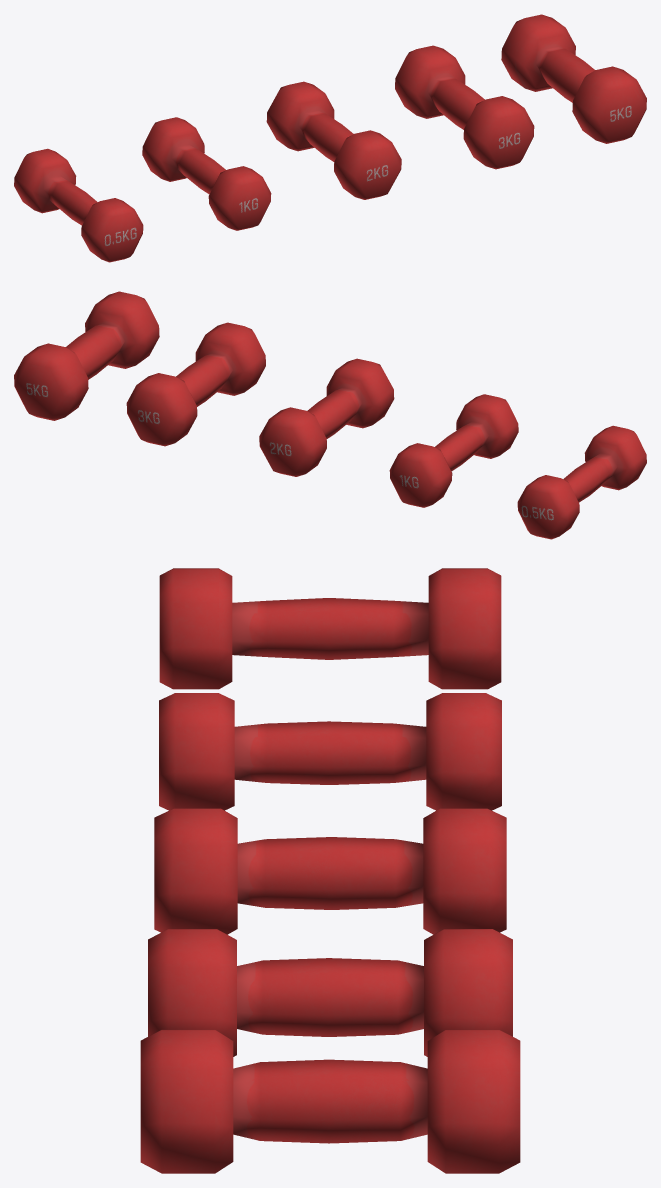
File: Light_Weight_Mini_Dumbbell_Pack_Low_Poly.glb
3 renders of one model, top to bottom at view 1: azimuth 30°, elevation 25°; view 2: azimuth 150°, elevation 25°; view 3: azimuth 270°, elevation 25°, orthographic. The views are drawn at different scales.
Parts seen in each view (by area): view 1: Mini Dumbbell_5_mini_dumbell 5_0, Mini Dumbbell_3_mini_dumbell 3_0, Mini Dumbbell_2_mini_dumbell 2_0, Mini Dumbbell_1_mini_dumbell 1_0, Mini Dumbbell_0.5_mini_dumbell .5_0; view 2: Mini Dumbbell_5_mini_dumbell 5_0, Mini Dumbbell_3_mini_dumbell 3_0, Mini Dumbbell_2_mini_dumbell 2_0, Mini Dumbbell_1_mini_dumbell 1_0, Mini Dumbbell_0.5_mini_dumbell .5_0; view 3: Mini Dumbbell_5_mini_dumbell 5_0, Mini Dumbbell_2_mini_dumbell 2_0, Mini Dumbbell_3_mini_dumbell 3_0, Mini Dumbbell_1_mini_dumbell 1_0, Mini Dumbbell_0.5_mini_dumbell .5_0.
Boxes of the visible parts, x1,y1,x2,y2 form: Mini Dumbbell_5_mini_dumbell 5_0: (501,14,646,143); Mini Dumbbell_3_mini_dumbell 3_0: (395,45,534,169); Mini Dumbbell_2_mini_dumbell 2_0: (266,81,401,199); Mini Dumbbell_1_mini_dumbell 1_0: (142,117,271,230); Mini Dumbbell_0.5_mini_dumbell .5_0: (14,148,143,262); Mini Dumbbell_5_mini_dumbell 5_0: (14,291,159,420); Mini Dumbbell_3_mini_dumbell 3_0: (126,322,265,446); Mini Dumbbell_2_mini_dumbell 2_0: (259,358,394,476); Mini Dumbbell_1_mini_dumbell 1_0: (389,394,518,507); Mini Dumbbell_0.5_mini_dumbell .5_0: (517,425,646,539); Mini Dumbbell_5_mini_dumbell 5_0: (140,1029,520,1173); Mini Dumbbell_2_mini_dumbell 2_0: (154,808,506,934); Mini Dumbbell_3_mini_dumbell 3_0: (148,929,512,1056); Mini Dumbbell_1_mini_dumbell 1_0: (159,693,501,810); Mini Dumbbell_0.5_mini_dumbell .5_0: (159,568,501,689).
Size of the model in its own units: 0.7755 by 0.0859 by 0.2312.
Materials: 5 (5 with a texture image).
